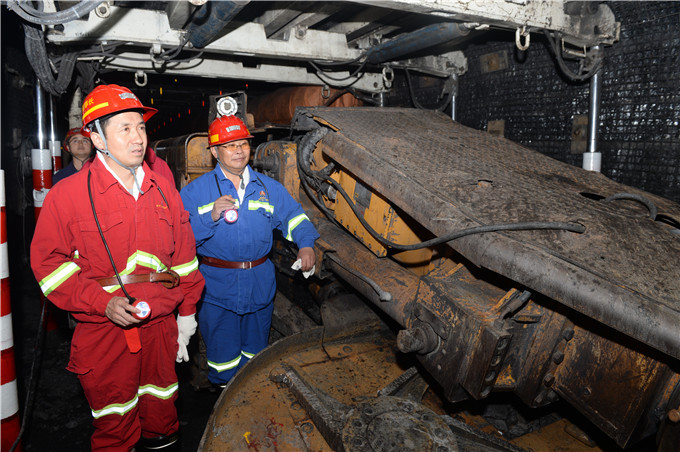helmet: (75, 85, 164, 173), (197, 112, 261, 178)
